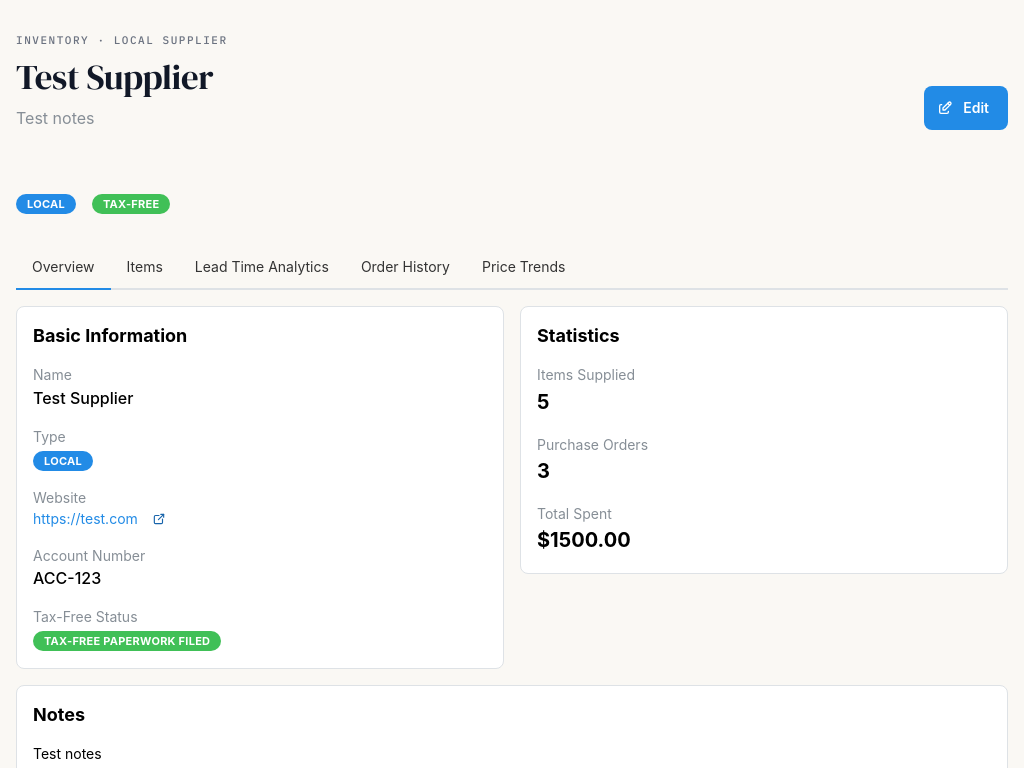
Scenario: SupplierDetailPage › displays items tab content
Click on Items tab
Step 1. Click the tab "Items" → (145, 268), box [111,246,179,290]
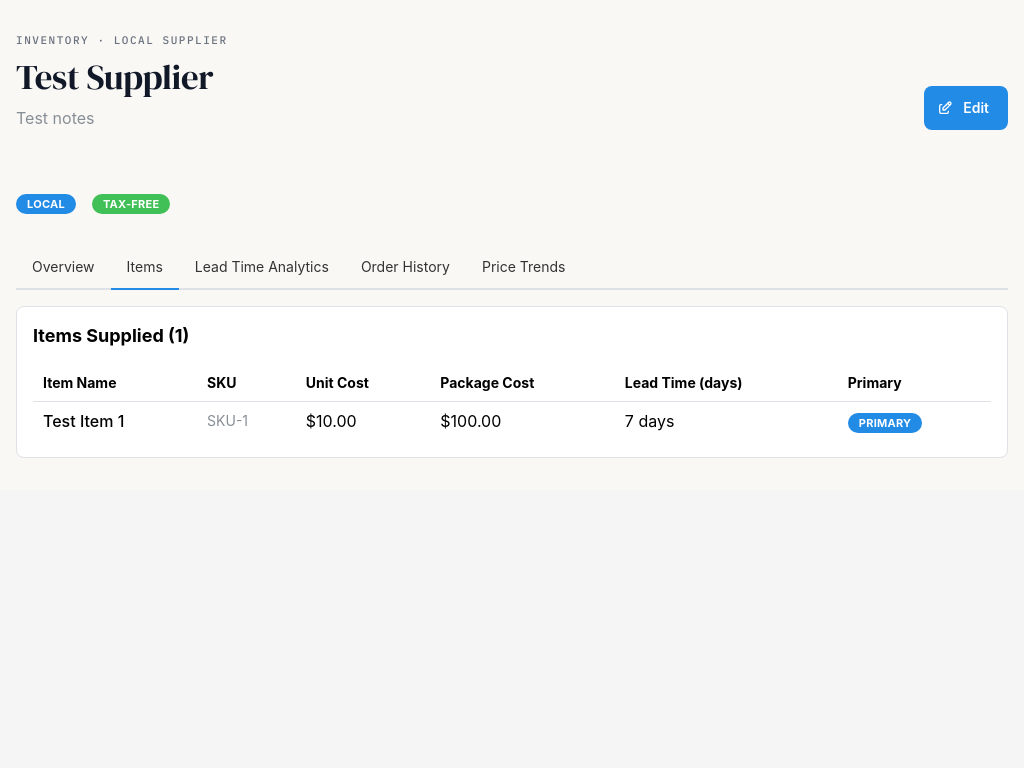
Expected: the text "Test Item 1" is shown, [43,411,124,431]
Expected: the text "SKU-1" is shown, [207,412,248,429]
